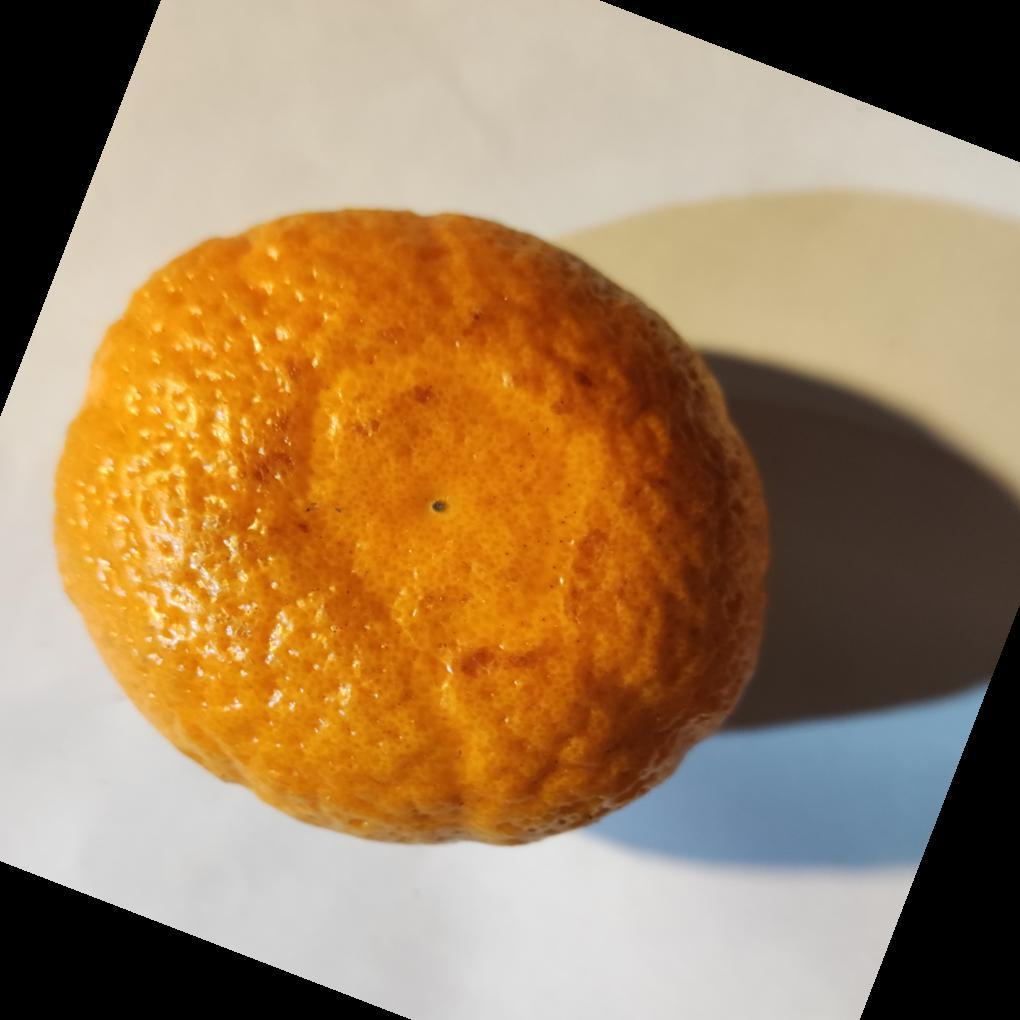FreshGuava: (49, 209, 774, 851)
